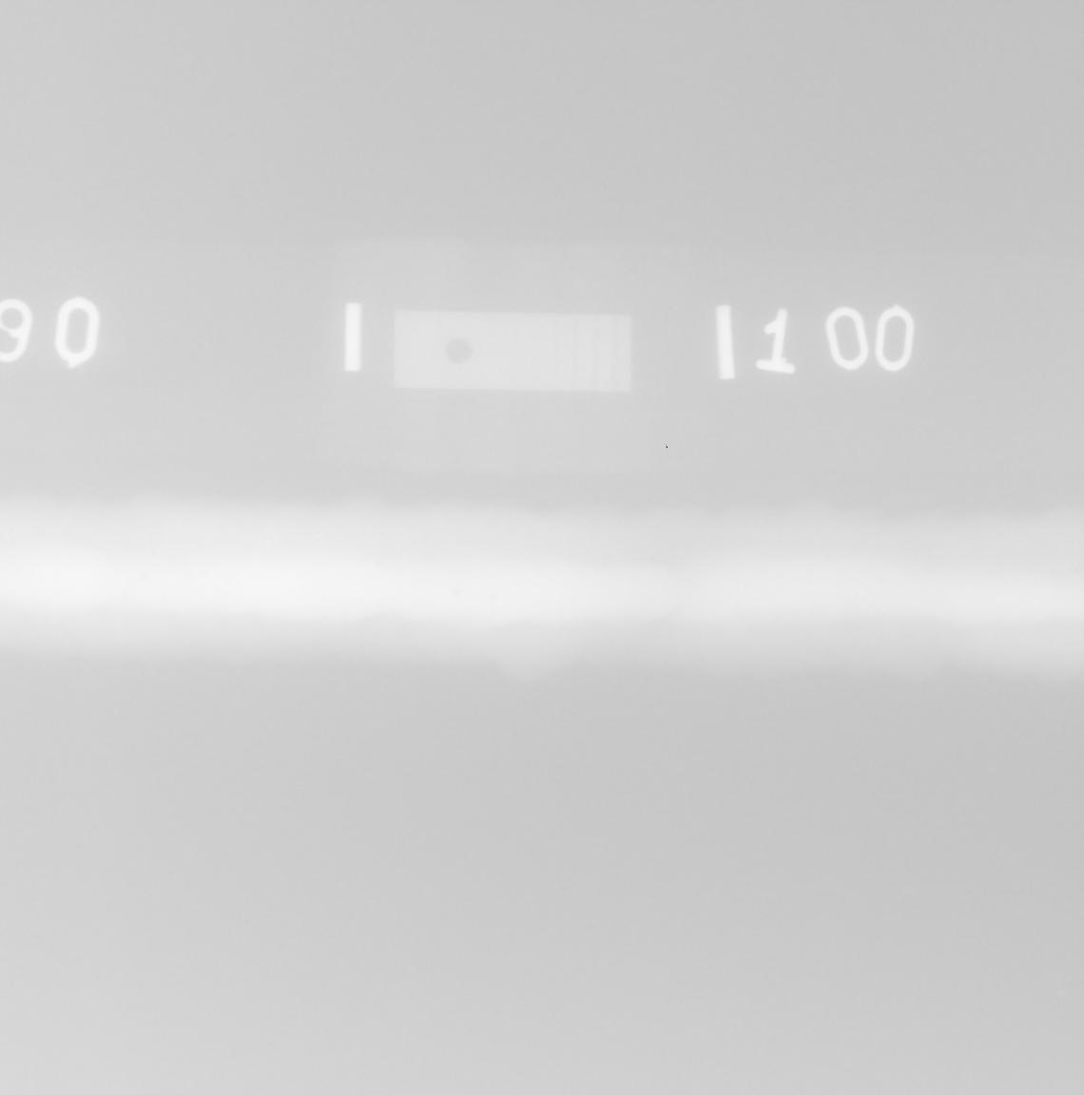Inclusion: (141, 573, 147, 581), (187, 576, 193, 582)
Pore/Porosity: (489, 592, 497, 601), (453, 590, 461, 596)
Reference Standard 1: (393, 310, 631, 392)
